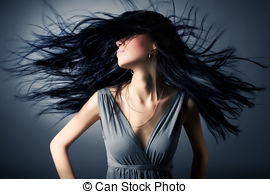face: (105, 9, 169, 91)
